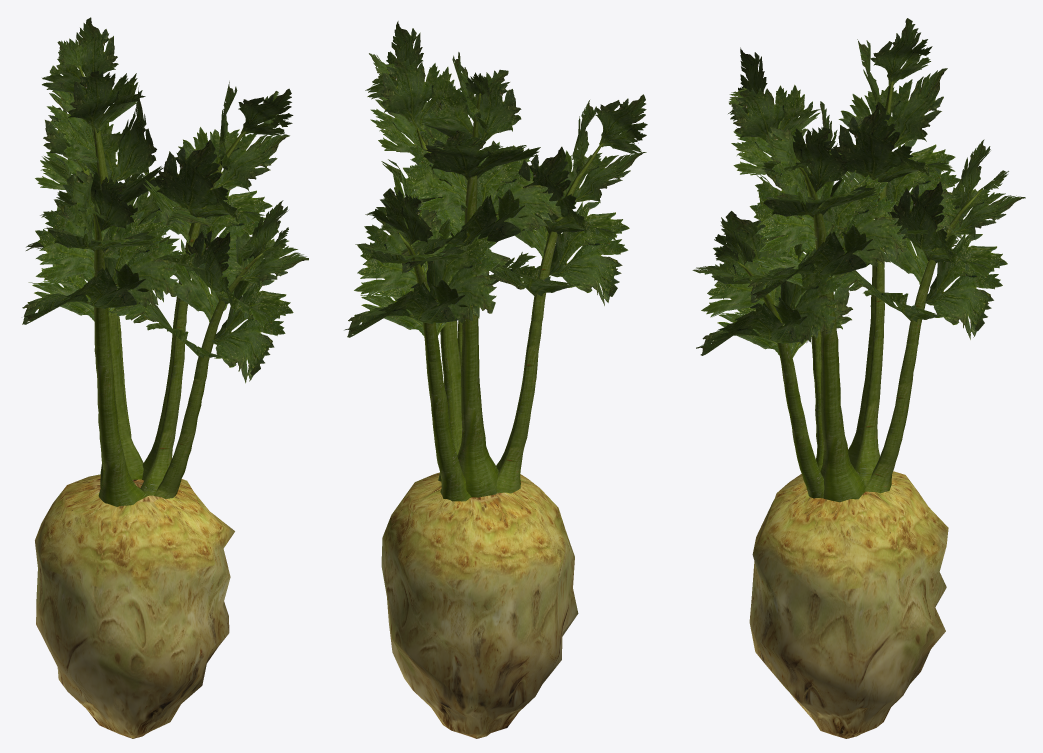
3 views of the same model, side by side, from view 1: azimuth 30°, elevation 25°; view 2: azimuth 150°, elevation 25°; view 3: azimuth 270°, elevation 25° (orthographic).
Parts seen in each view (by area): view 1: VG02_4; view 2: VG02_4; view 3: VG02_4.
Part boxes in pixels (x1=…): VG02_4: x1=22, y1=17, x2=308, y2=738; VG02_4: x1=344, y1=21, x2=647, y2=738; VG02_4: x1=692, y1=18, x2=1025, y2=738.
Bounding box in the file's own units: 0.1117 × 0.2894 × 0.1258.
3 materials, 3 textured.
